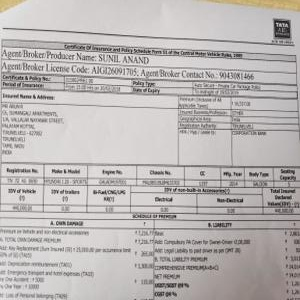image: (270, 18, 297, 46)
table: (1, 43, 300, 165), (1, 219, 300, 299), (1, 161, 299, 215)
